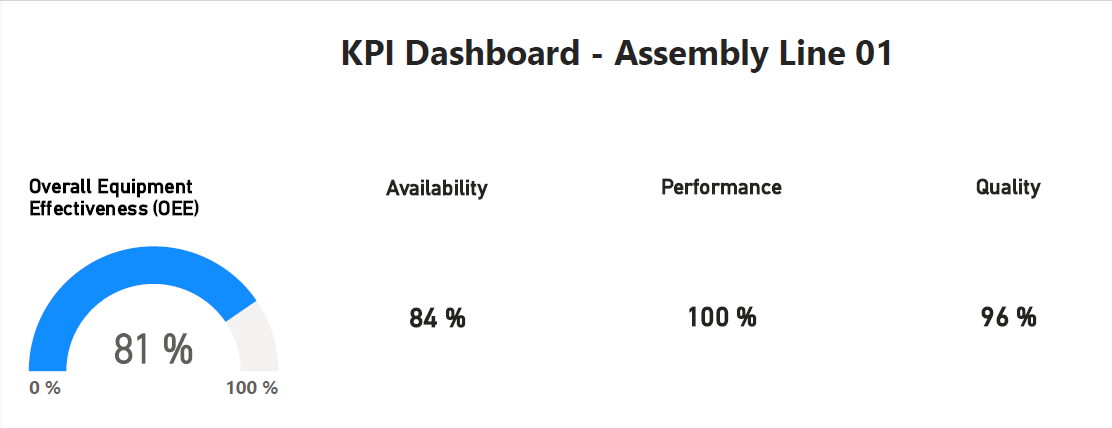

The page's visual inventory and layout, read from the dashboard file:
{"tool":"powerbi","page":{"name":"Página 1","canvas":[1280,720],"ordinal":0},"visuals":[{"type":"gauge","title":"Overall Equipment Effectiveness (OEE)","fields":{"Y":["Sum(OEE_Metrics.Value )"]},"box":[0,162.5,279.4,279.4],"z":0},{"type":"card","title":"Availability","fields":{"Values":["Sum(OEE_Metrics.Value )"]},"box":[306.5,164.2,279.4,277.7],"z":1},{"type":"card","title":"Performance","fields":{"Values":["Sum(OEE_Metrics.Value )"]},"box":[612.9,162.5,279.4,277.7],"z":2},{"type":"card","title":"Quality","fields":{"Values":["Sum(OEE_Metrics.Value )"]},"box":[922.8,162.5,279.4,277.7],"z":3},{"type":"textbox","box":[0,0,1280,69.4],"z":4}]}

Visuals, with their boxes on the page's 1280x720 design canvas (x1, y1, x2, y2). These are canvas units, not pixel positions in the 1112x428 screenshot, which may show the page scaled, cropped or inside an application window:
"Overall Equipment Effectiveness (OEE)" gauge: (x1=0, y1=162, x2=279, y2=442)
"Availability" card: (x1=306, y1=164, x2=586, y2=442)
"Performance" card: (x1=613, y1=162, x2=892, y2=440)
"Quality" card: (x1=923, y1=162, x2=1202, y2=440)
textbox: (x1=0, y1=0, x2=1280, y2=69)
